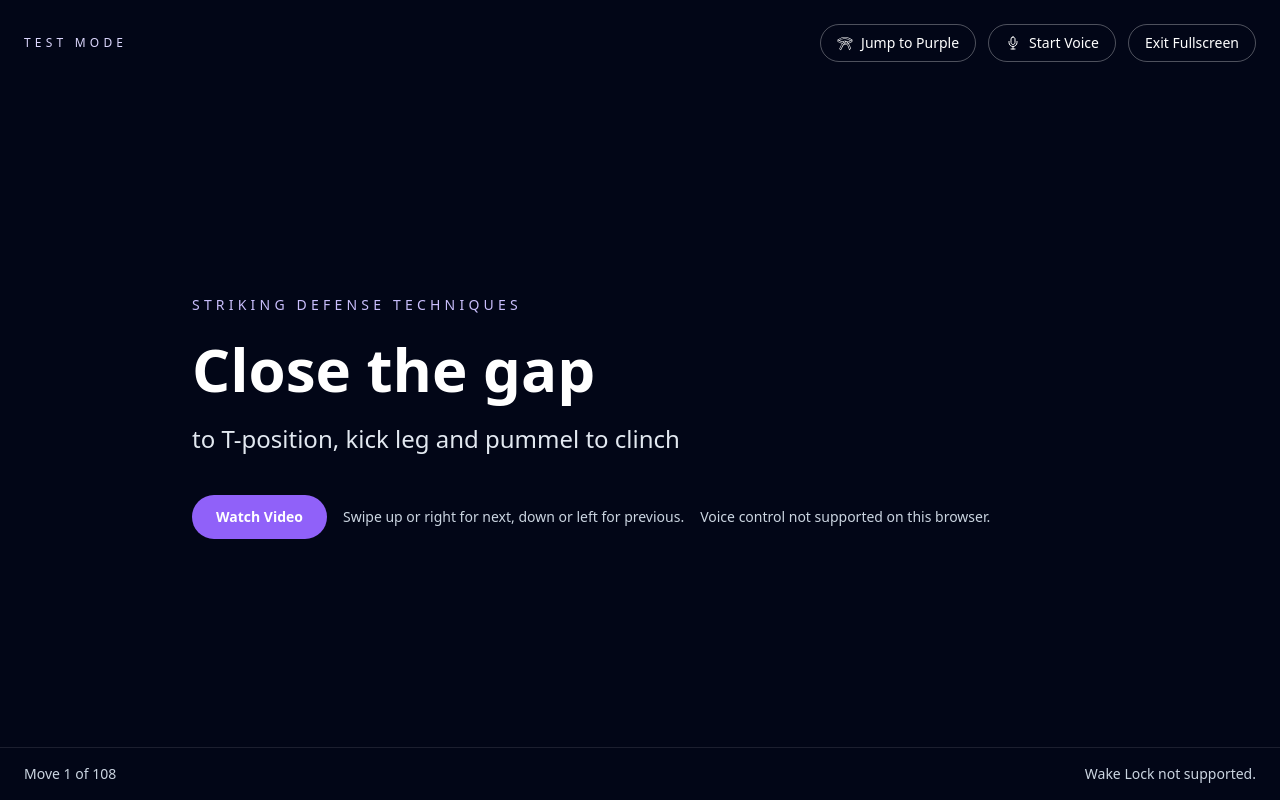
Test case: shows unsupported banner when SpeechRecognition is unavailable
Click the button "Start Voice" at (1052, 43), box [988,24,1116,62]
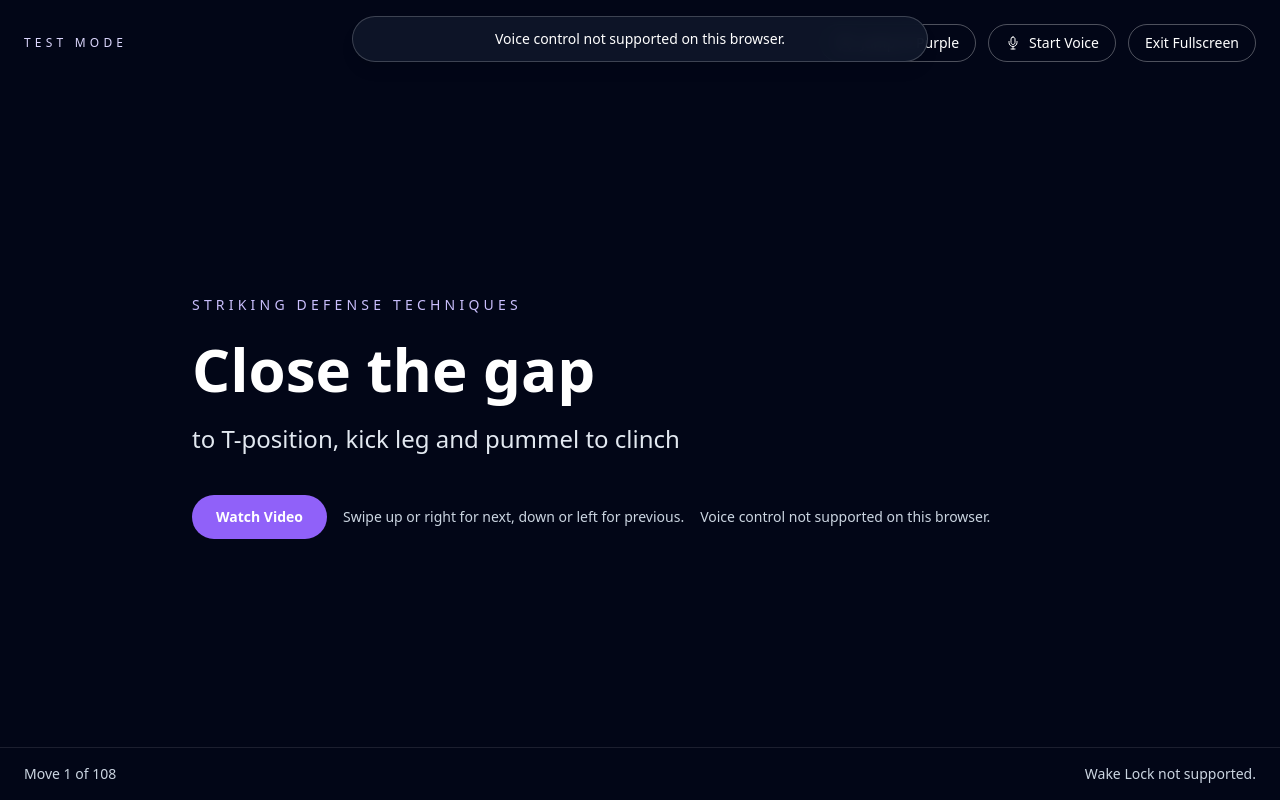
Result: the 1st text "Voice control not supported on this browser." is shown at [352,16,928,62]
